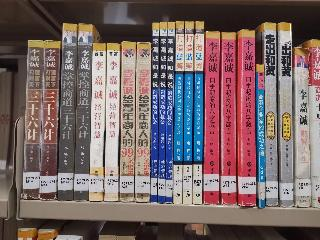book-spine: (53, 23, 79, 200), (21, 40, 46, 199), (39, 41, 62, 200), (73, 24, 93, 202), (218, 33, 238, 206), (239, 29, 257, 207), (203, 32, 221, 205), (278, 23, 294, 208), (119, 39, 137, 203), (262, 22, 278, 206), (161, 21, 177, 204), (88, 41, 105, 203), (294, 47, 311, 208), (191, 20, 205, 205), (181, 20, 195, 204), (103, 43, 119, 202), (135, 43, 150, 202), (172, 21, 185, 203), (156, 20, 168, 205), (149, 23, 159, 202), (310, 40, 320, 208), (256, 64, 266, 207)
